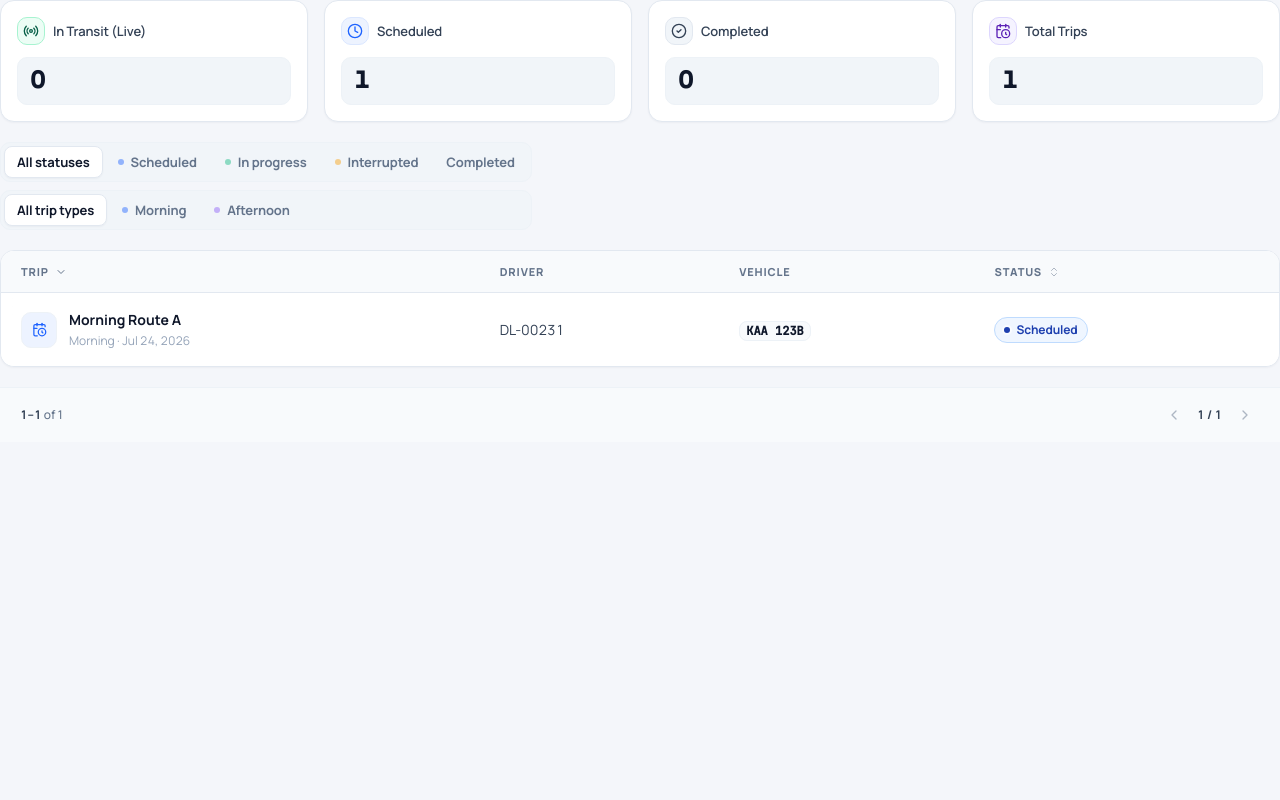
Scenario: TripsPage › hides the Schedule Trip action and drawer management actions for a read-only role
Click the text "Morning Route A". click: (130, 320)
box: [69,309,190,331]
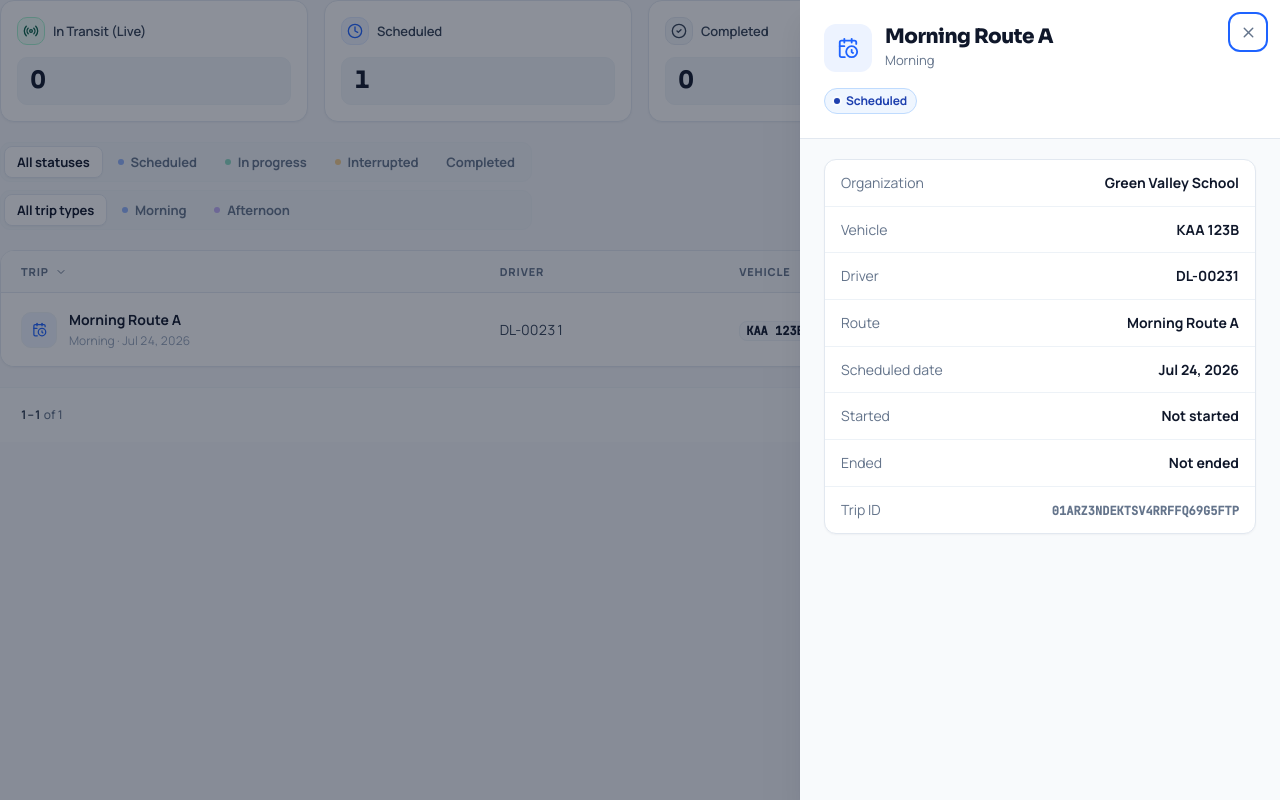
Expected: the text "Green Valley School" is shown, [1105,172,1239,194]
